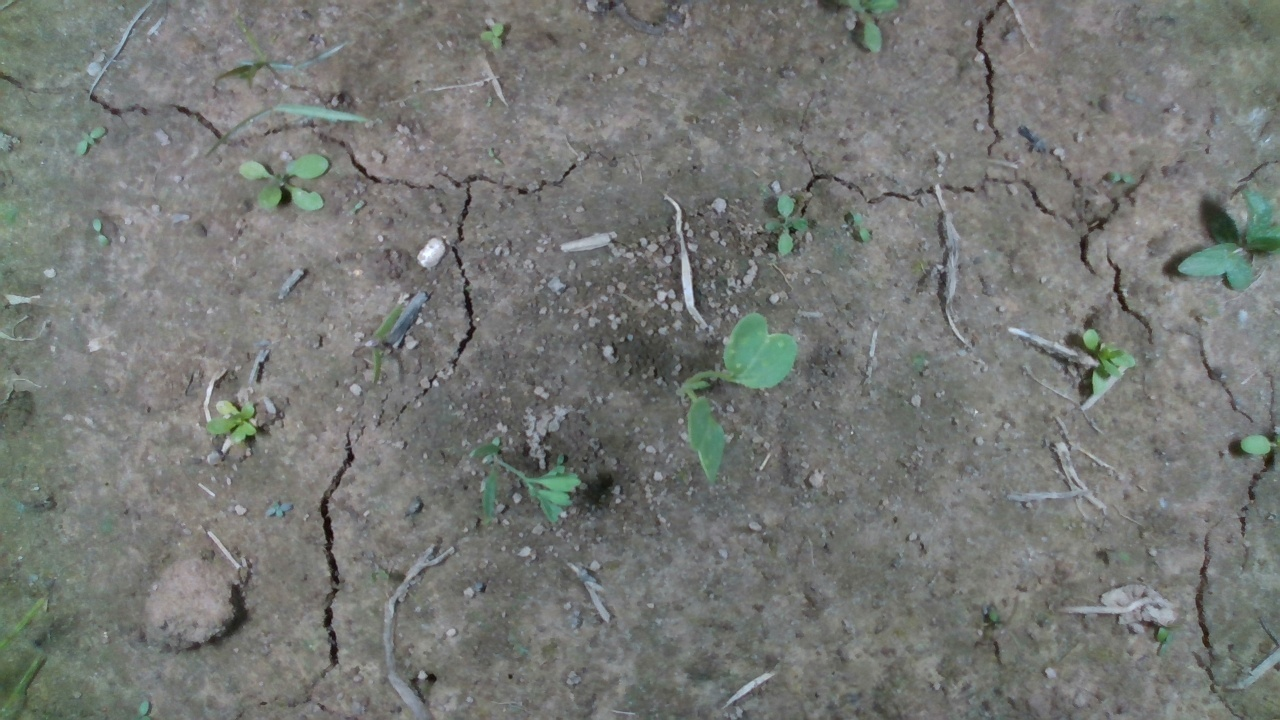weed: (234, 152, 332, 214), (1081, 327, 1134, 398), (760, 189, 811, 257), (199, 394, 258, 447), (71, 124, 106, 158), (477, 21, 506, 55), (849, 206, 872, 243), (263, 496, 293, 521), (90, 216, 110, 251)
